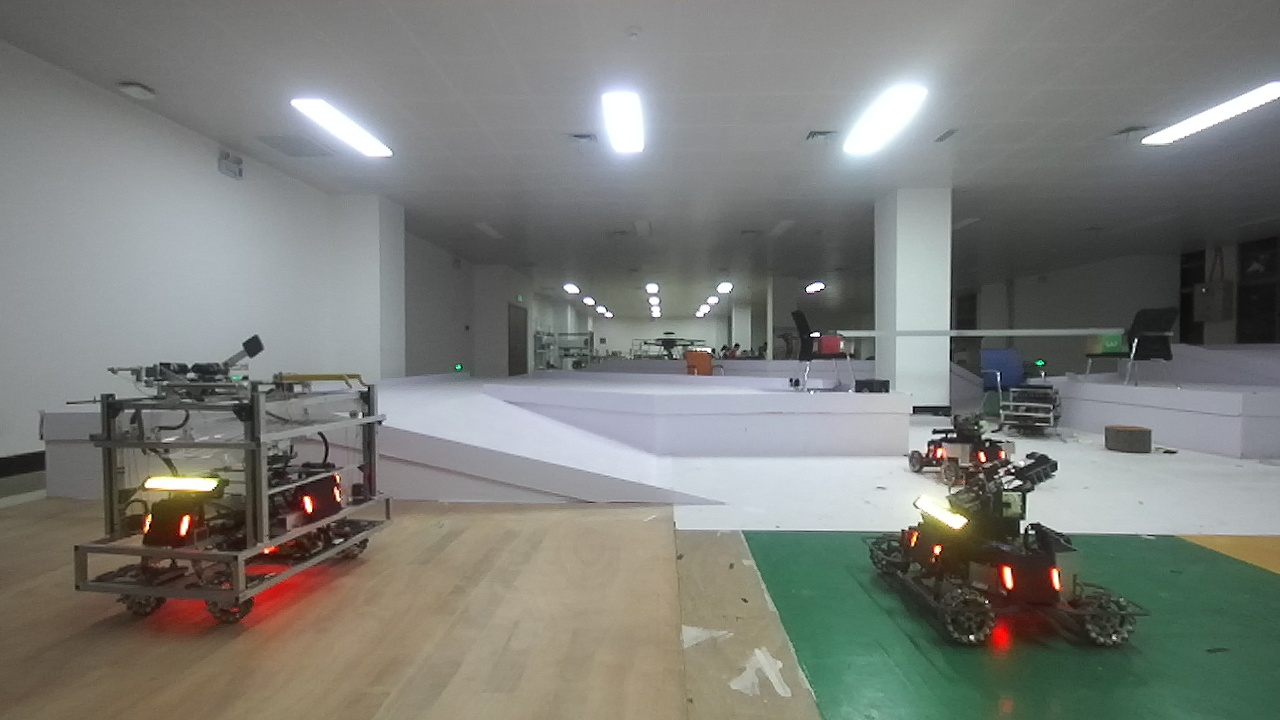car: (79, 331, 386, 626), (881, 485, 1140, 668), (896, 408, 1031, 491)
